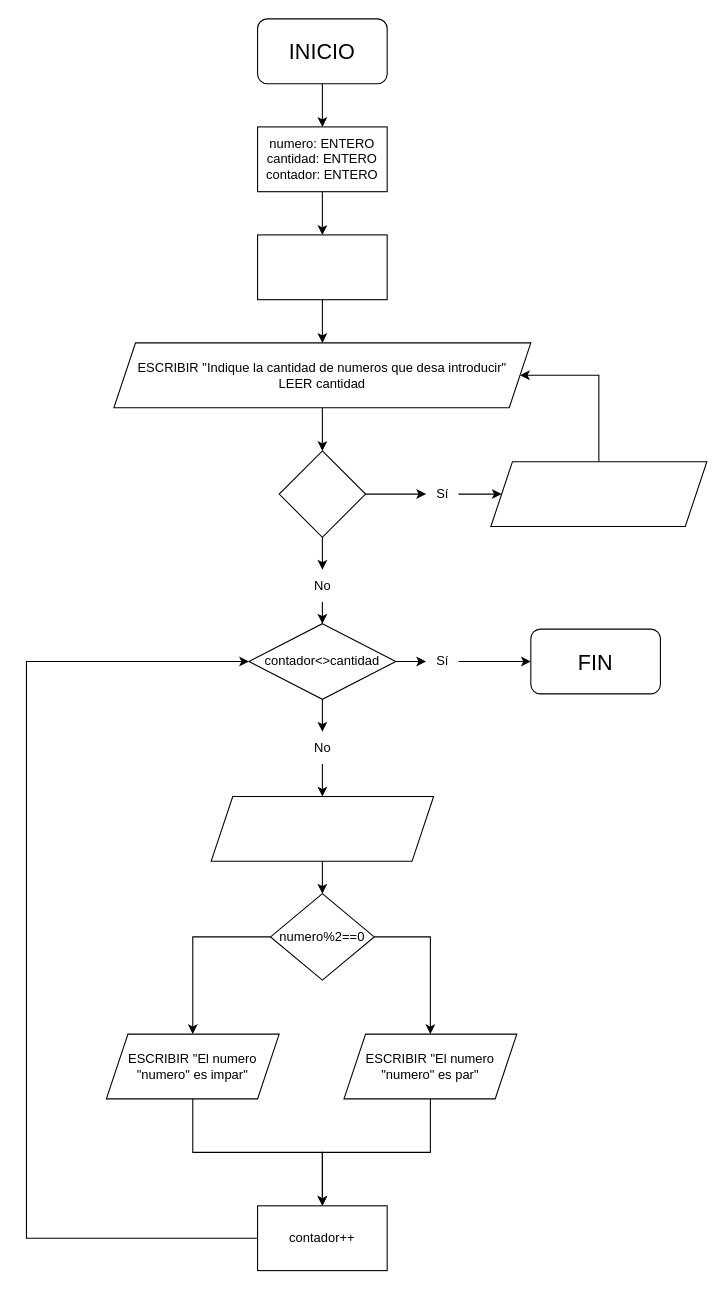
This 726x1290 diagram has some shape labels left out. Here are the shapes that lost their labels. From the top down, the centre of each, then its label:
the point at 321,267: contador==0
the point at 322,493: cantidad<=0
the point at 598,493: ESCRIBIR "Algun numero deberas de introducir"
the point at 322,828: ESCRIBIR "Ingrese un numero" LEER numero
